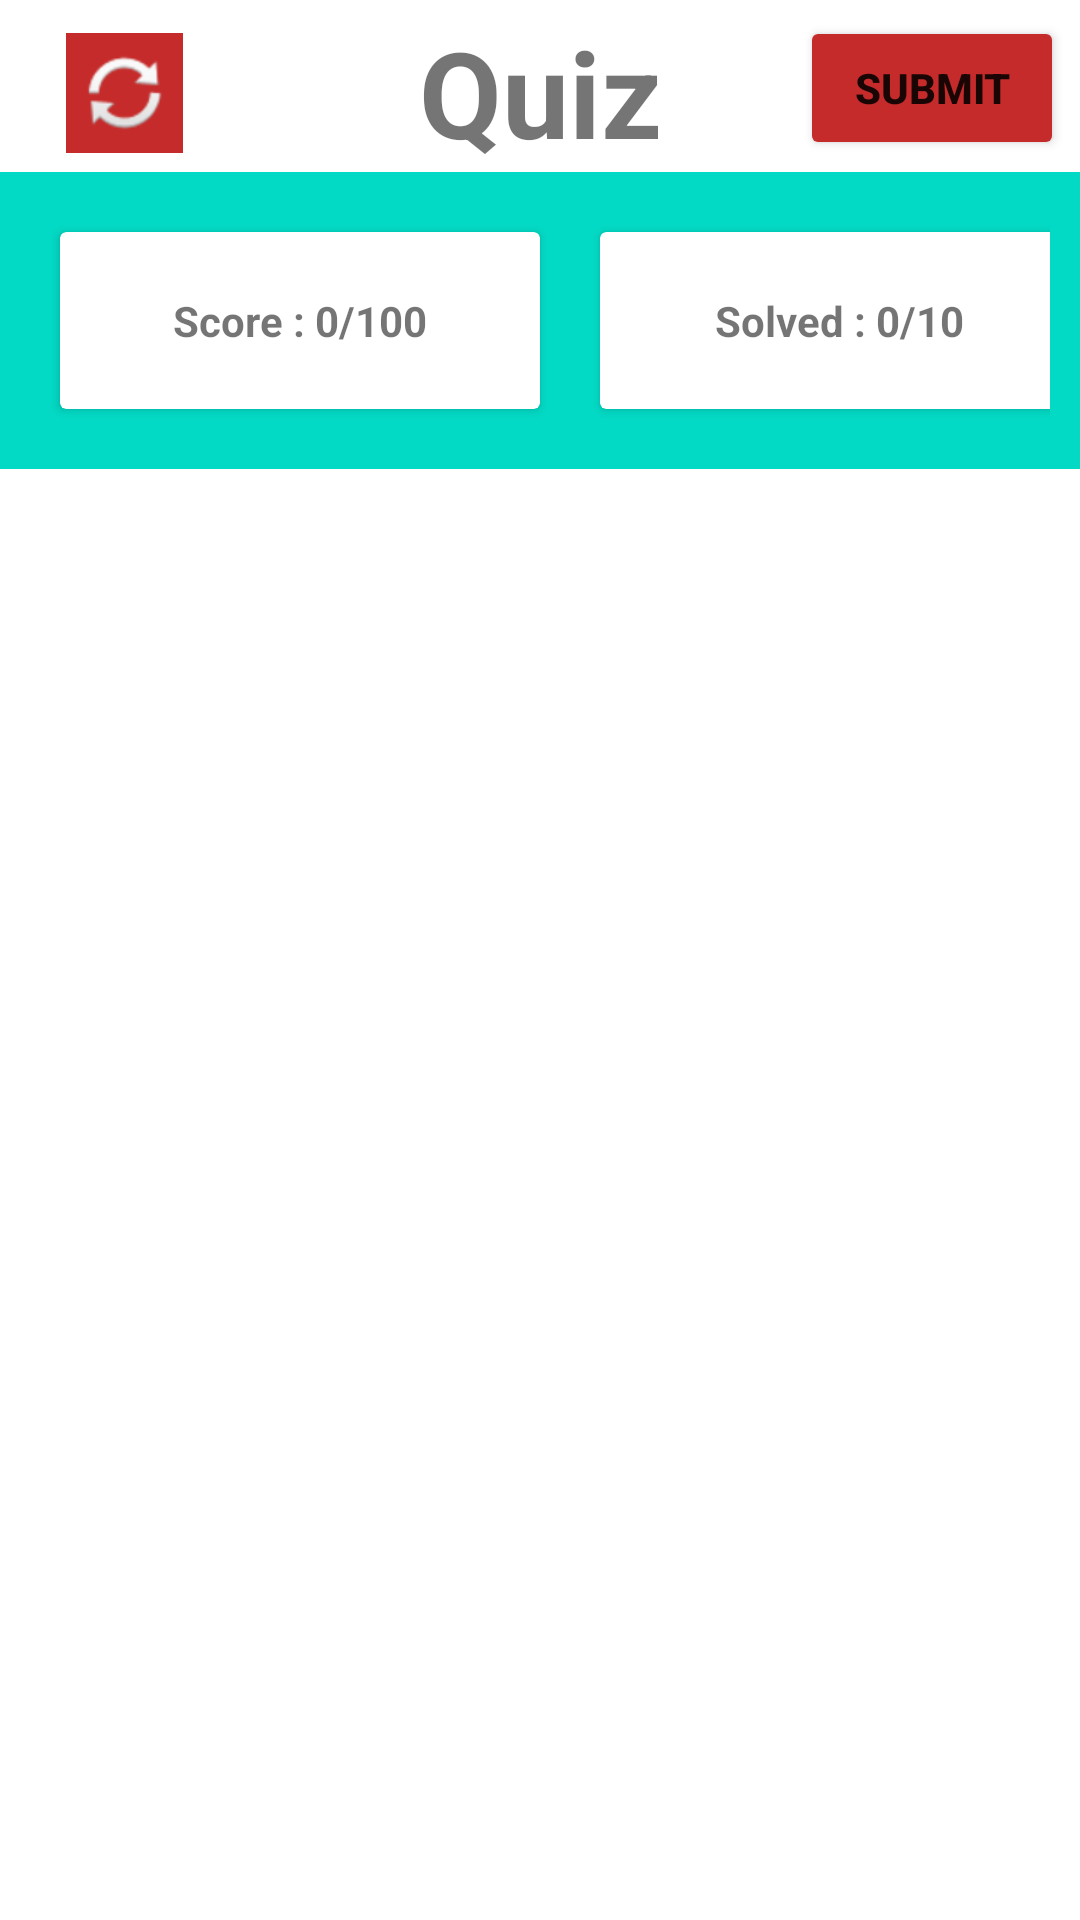

Icons on this 1080 × 1920 Android screen, each with its box as (x1,y1,x2,y2):
popup sync: (66,33,183,153)
